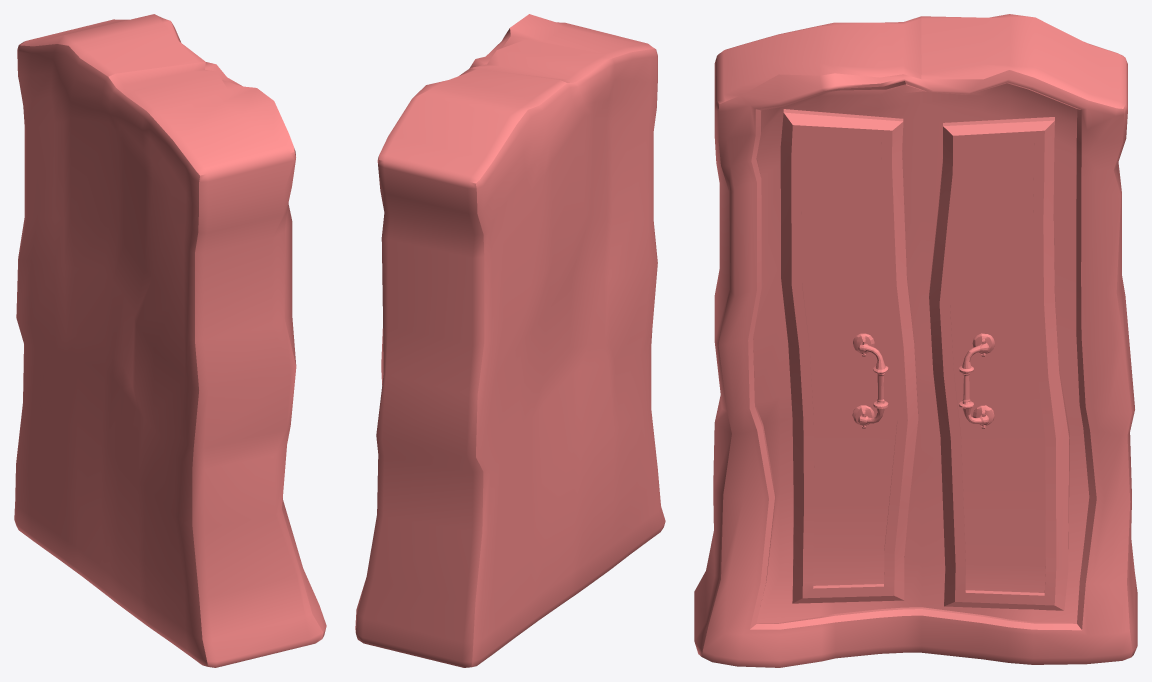
File: placard.fbx
3 renders of one model, left to right at view 1: azimuth 30°, elevation 25°; view 2: azimuth 150°, elevation 25°; view 3: azimuth 270°, elevation 25°, orthographic. The views are drawn at different scales.
Visible parts, largest first — view 1: placardentier; view 2: placardentier; view 3: placardentier.
Part boxes in pixels (bbox=[...]): placardentier: bbox=[14, 14, 326, 667]; placardentier: bbox=[355, 14, 665, 667]; placardentier: bbox=[694, 14, 1137, 667].
Size of the model in its own units: 9.08 by 31.15 by 21.36.
